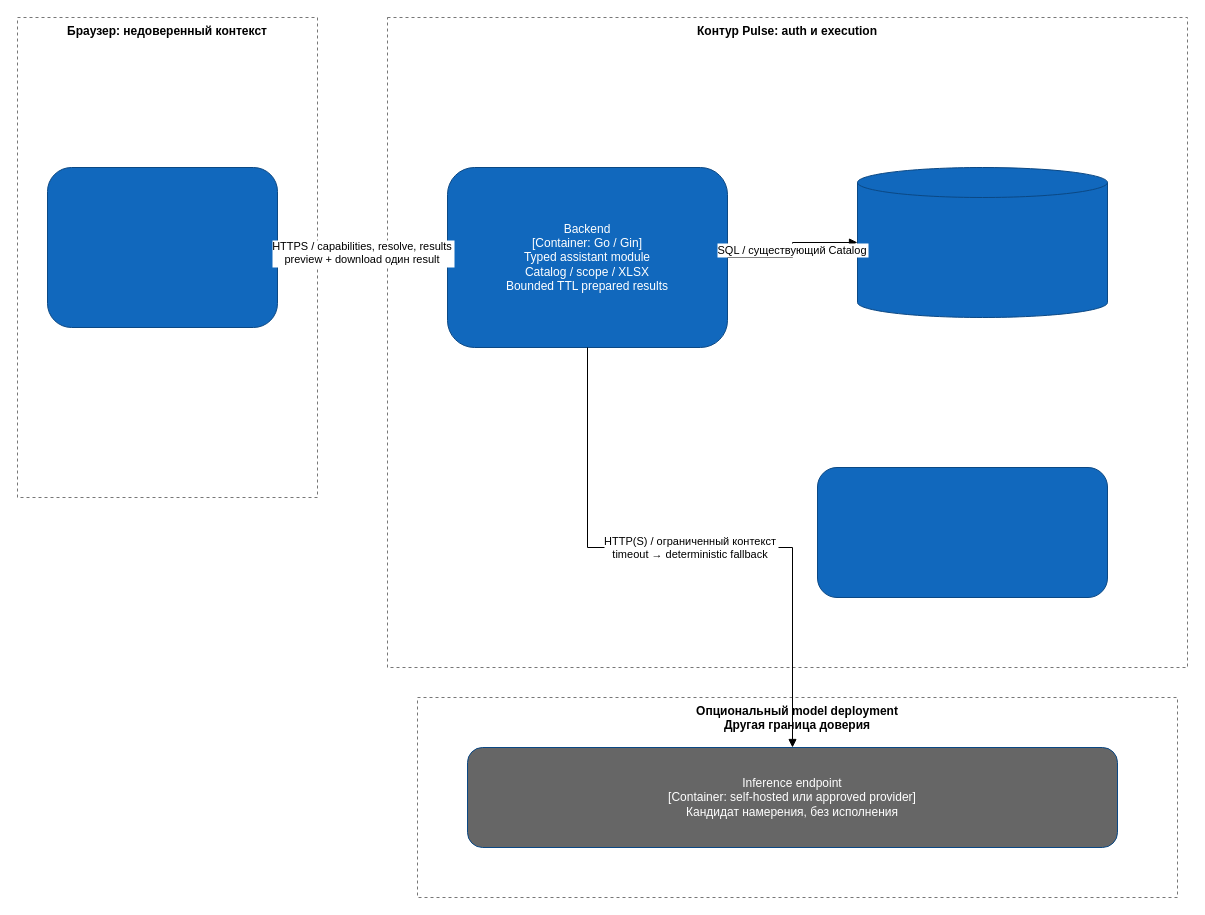
Image size: 1205x915. Some labels were removed from this diagram. The shapes that lost their labels are listed below. From the top down, each one's centre as x and y in pixels, then its label:
At (x=162, y=247): "SPA [Container: React] Панель + guide registry Typed draft / preview".
At (x=982, y=242): "PostgreSQL [Container: database] Существующая схема".
At (x=962, y=532): "ML / Data [Existing containers] Не вызываются при реестре".
